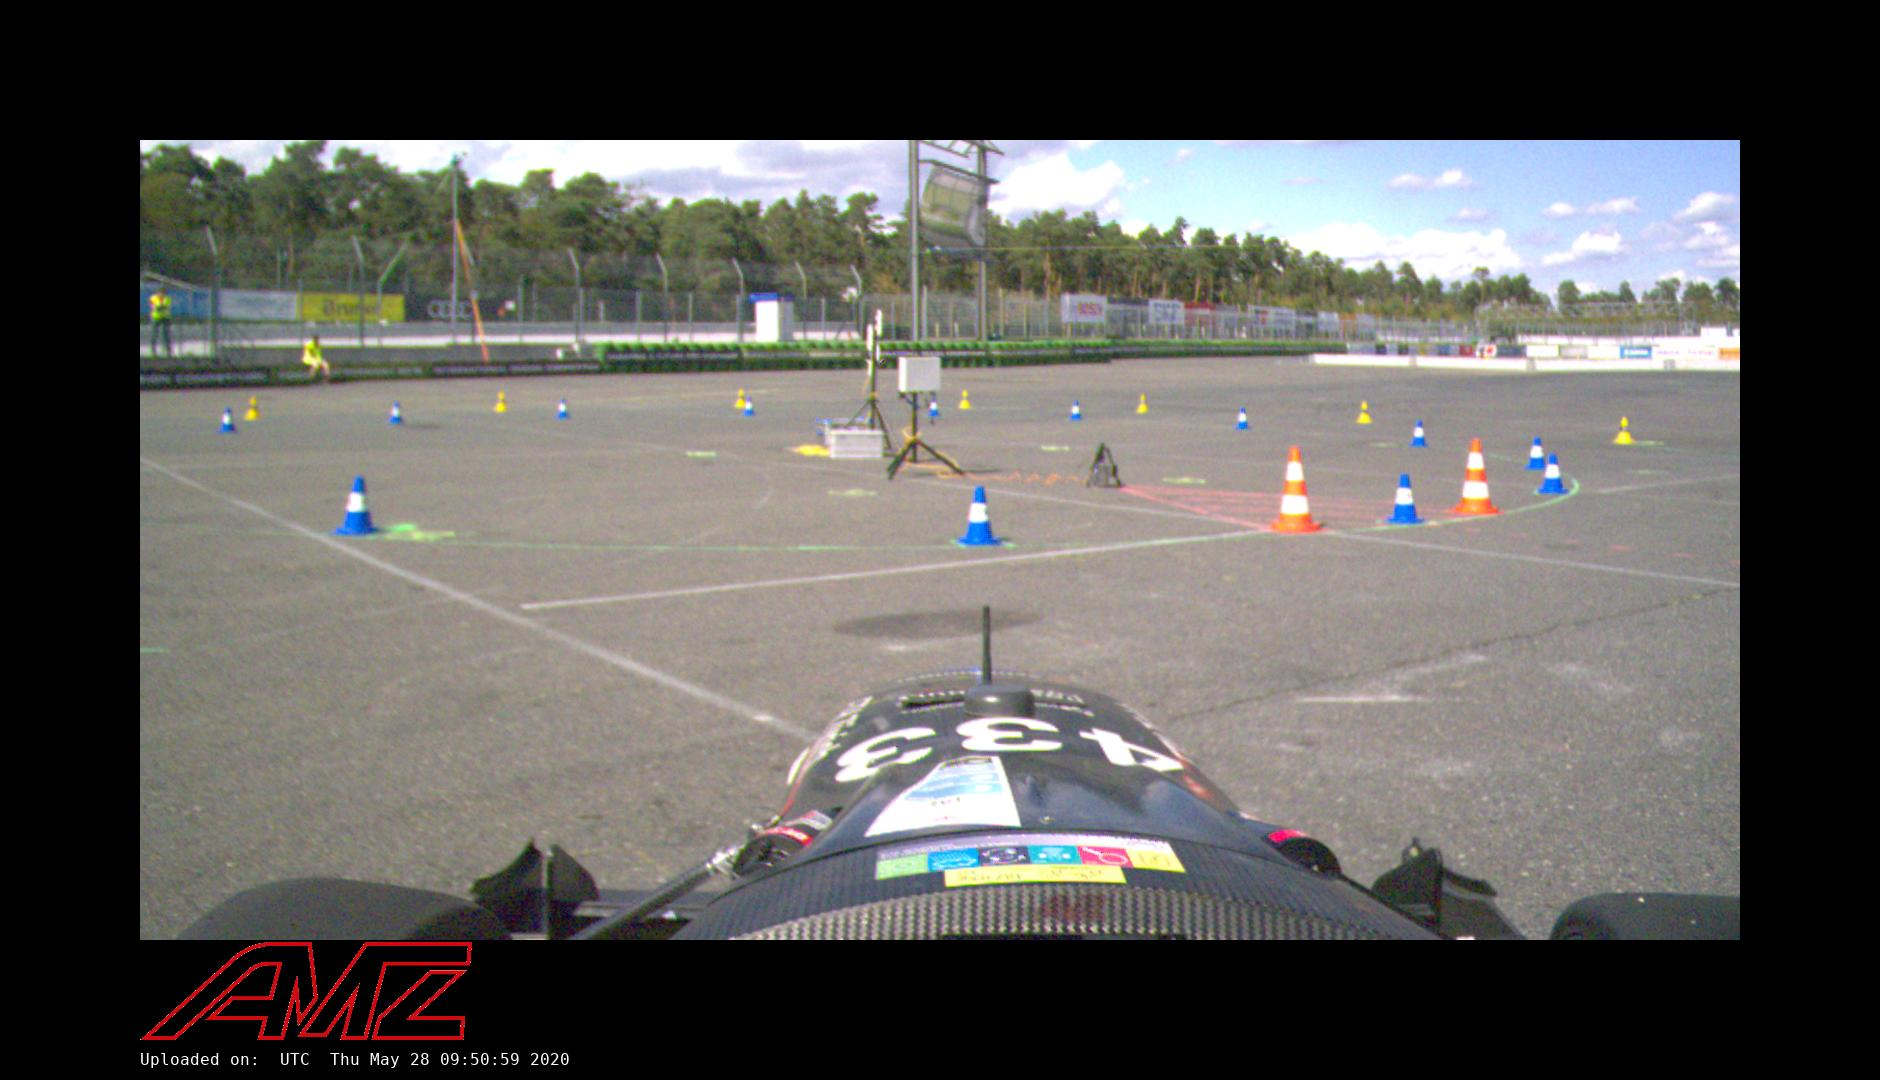blue_cone: (957, 486, 1005, 546), (333, 475, 381, 536), (1387, 474, 1425, 524), (1538, 453, 1569, 493), (1524, 437, 1549, 470), (1410, 420, 1429, 447), (218, 407, 238, 433), (1234, 407, 1251, 430), (387, 402, 404, 425), (1068, 400, 1082, 421), (557, 398, 571, 419), (742, 397, 755, 417), (927, 397, 940, 417)
large_orange_cone: (1267, 446, 1321, 532), (1447, 439, 1502, 515)
yellow_cone: (1614, 417, 1636, 444), (244, 397, 262, 420), (1354, 400, 1373, 422), (493, 391, 509, 412), (733, 389, 748, 407), (958, 390, 971, 408), (1136, 395, 1149, 412)
